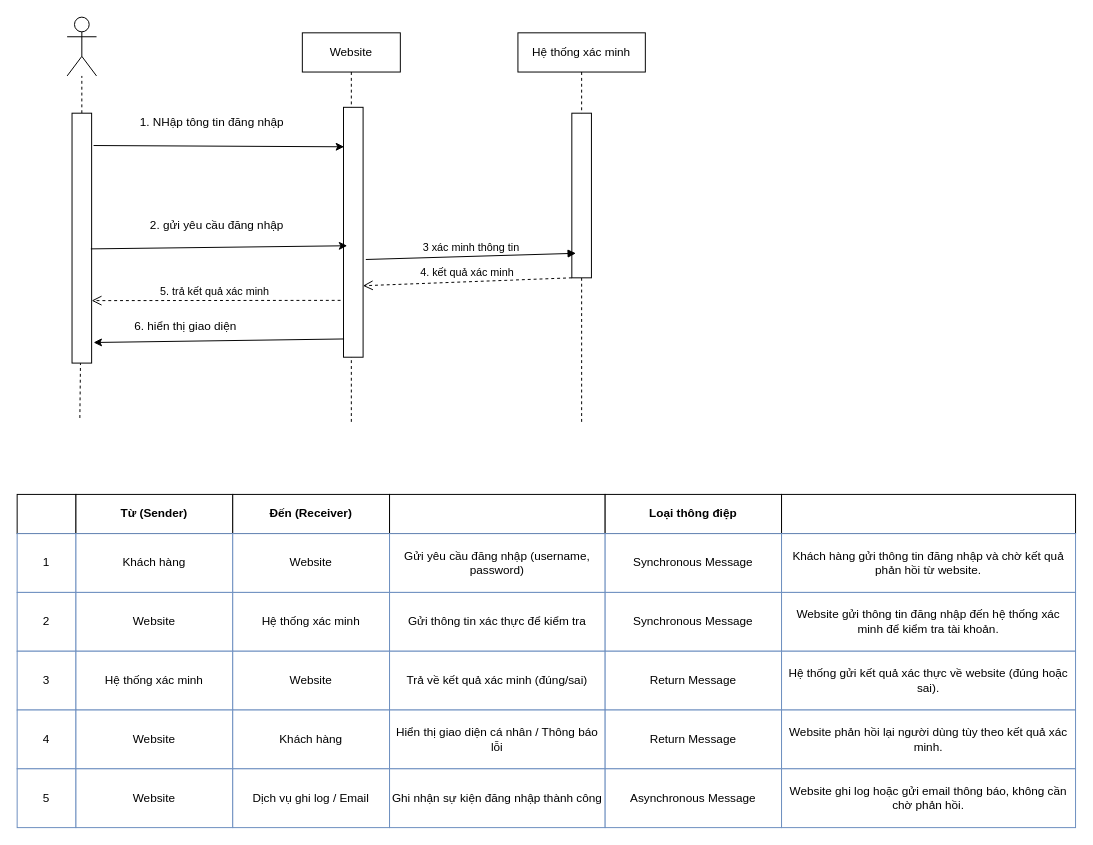
This 1093x845 diagram has some shape labels left out. Here are the shapes that lost their labels. From the top down, the centre of each, then its label:
pixel 46 513: STT
pixel 497 513: Nội dung thông điệp
pixel 928 513: Mô tả chi tiết
